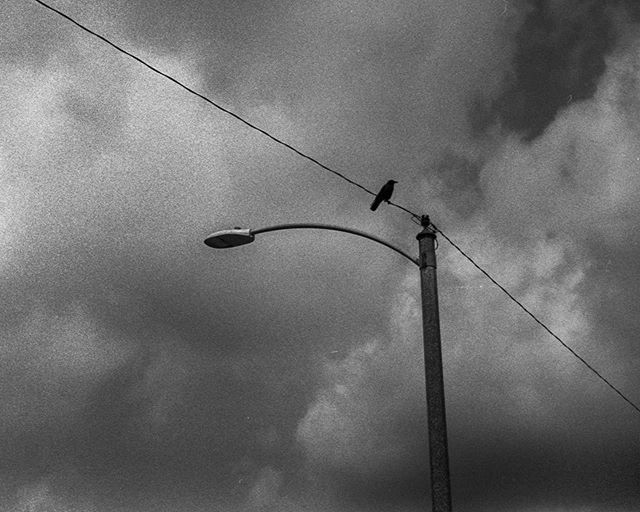animal: (365, 170, 399, 215)
light pole: (207, 206, 451, 512)
sky: (1, 1, 634, 505)
